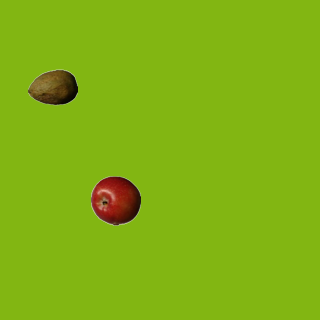Apple Braeburn: (90, 175, 140, 225)
Papaya: (27, 62, 77, 112)
